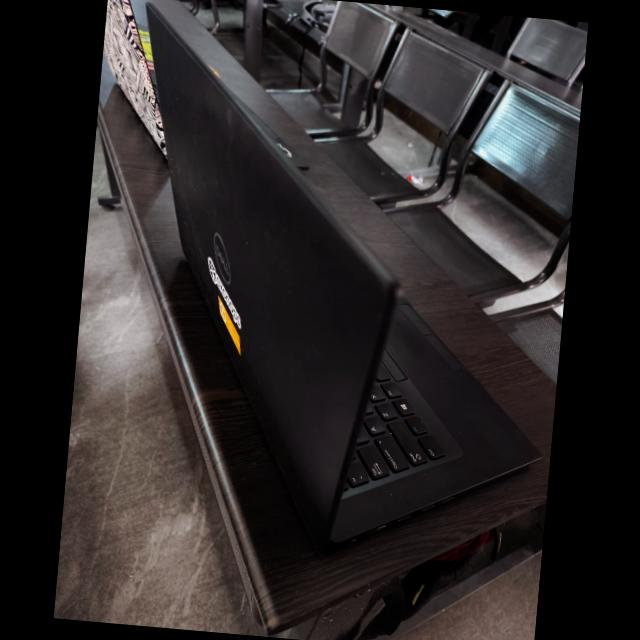laptop: (375, 364, 391, 381)
